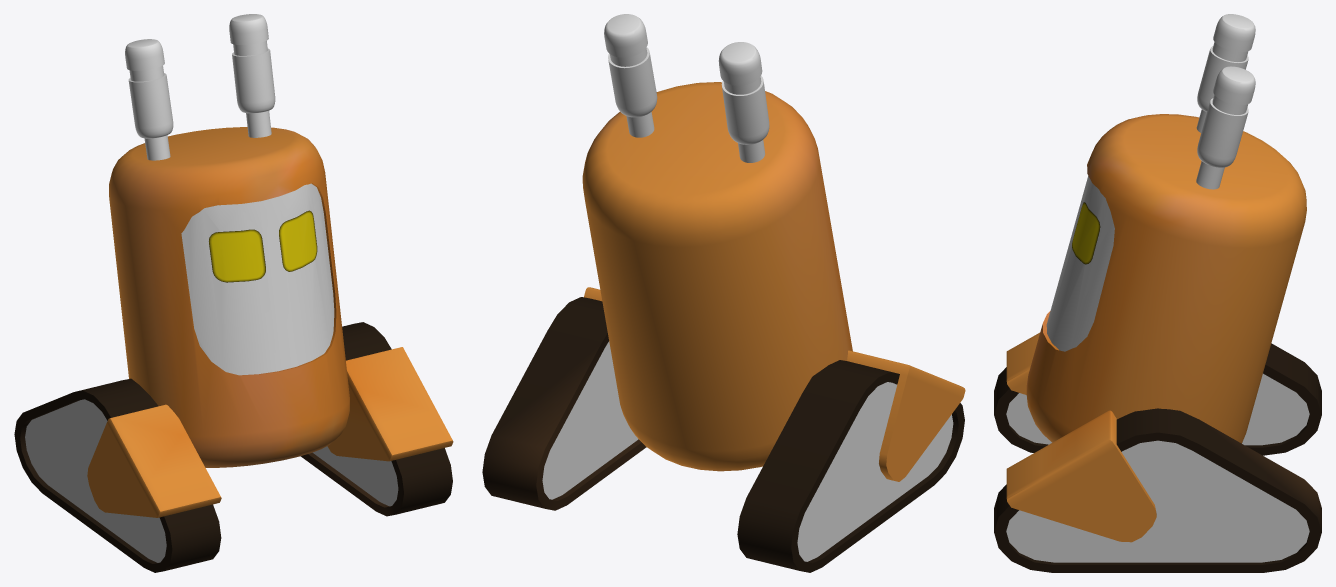
The model's file is player.fbx.
3 views of the same model, side by side, from view 1: azimuth 30°, elevation 25°; view 2: azimuth 150°, elevation 25°; view 3: azimuth 270°, elevation 25° (orthographic). The views are drawn at different scales.
Parts seen in each view (by area): view 1: Cylinder.003, Cylinder.008, Cylinder.001, Cylinder.009, Cylinder.007, Cylinder.006, Cylinder.010, Cylinder.004, Cylinder.005; view 2: Cylinder.003, Cylinder.009, Cylinder.007, Cylinder.006, Cylinder.008, Cylinder.004, Cylinder.005; view 3: Cylinder.003, Cylinder.007, Cylinder.009, Cylinder.008, Cylinder.006, Cylinder.001, Cylinder.010, Cylinder.005, Cylinder.004.
Boxes of the visible parts, bbox=[...] form: Cylinder.003: bbox=[109, 127, 349, 467]; Cylinder.008: bbox=[87, 347, 453, 517]; Cylinder.001: bbox=[181, 183, 334, 375]; Cylinder.009: bbox=[14, 322, 452, 572]; Cylinder.007: bbox=[25, 399, 398, 562]; Cylinder.006: bbox=[125, 14, 275, 138]; Cylinder.010: bbox=[209, 210, 317, 282]; Cylinder.004: bbox=[144, 110, 271, 160]; Cylinder.005: bbox=[129, 40, 267, 81]; Cylinder.003: bbox=[582, 82, 852, 471]; Cylinder.009: bbox=[482, 297, 964, 572]; Cylinder.007: bbox=[542, 341, 953, 561]; Cylinder.006: bbox=[604, 14, 769, 144]; Cylinder.008: bbox=[584, 287, 965, 481]; Cylinder.004: bbox=[626, 112, 765, 162]; Cylinder.005: bbox=[610, 48, 761, 94]; Cylinder.003: bbox=[1026, 114, 1306, 443]; Cylinder.007: bbox=[1006, 373, 1309, 562]; Cylinder.009: bbox=[994, 343, 1321, 572]; Cylinder.008: bbox=[1006, 332, 1156, 542]; Cylinder.006: bbox=[1197, 14, 1255, 167]; Cylinder.001: bbox=[1046, 176, 1114, 351]; Cylinder.010: bbox=[1072, 202, 1100, 264]; Cylinder.005: bbox=[1212, 42, 1248, 114]; Cylinder.004: bbox=[1196, 109, 1224, 189].
Bounding box in the file's own units: 211 × 302 × 196.
